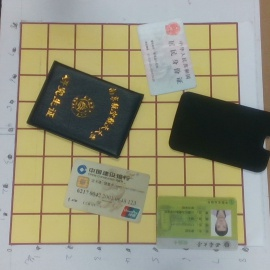card: (64, 157, 150, 224), (132, 18, 201, 95), (154, 195, 241, 252)
